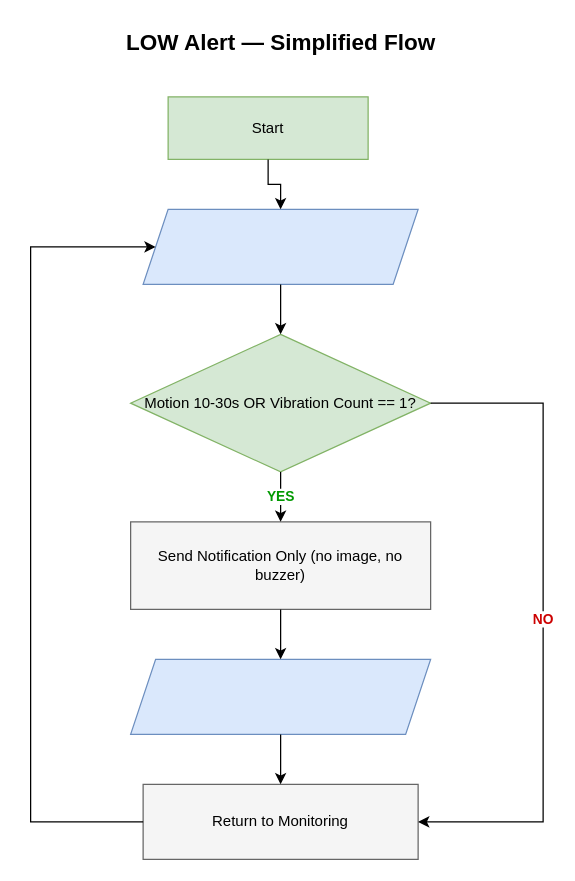
The diagram is 575 pixels wide and 881 high, and some of its shapes have lost their labels. Here are the shapes that lost their labels. From the top down, the centre of each, then its label:
At (x=280, y=246): "Read Motion & Vibration Sensors".
At (x=280, y=696): "Publish LOW Alert (MQTT sensor/status)".
